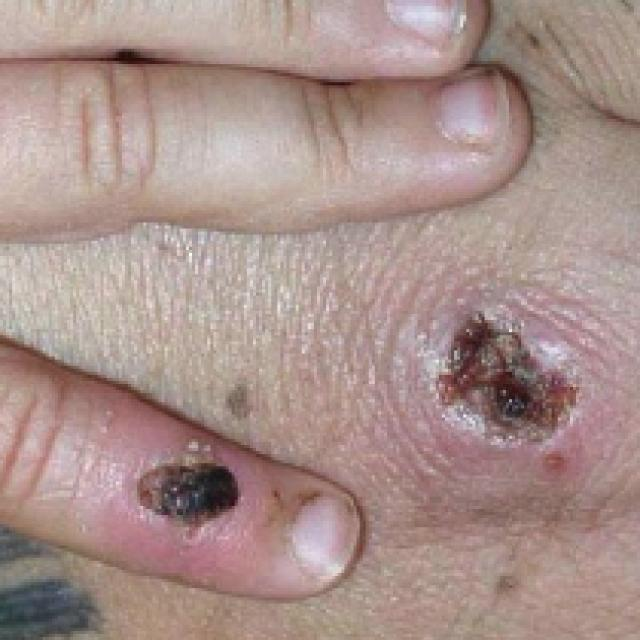Eczema: (432, 309, 592, 452), (120, 456, 261, 542)
